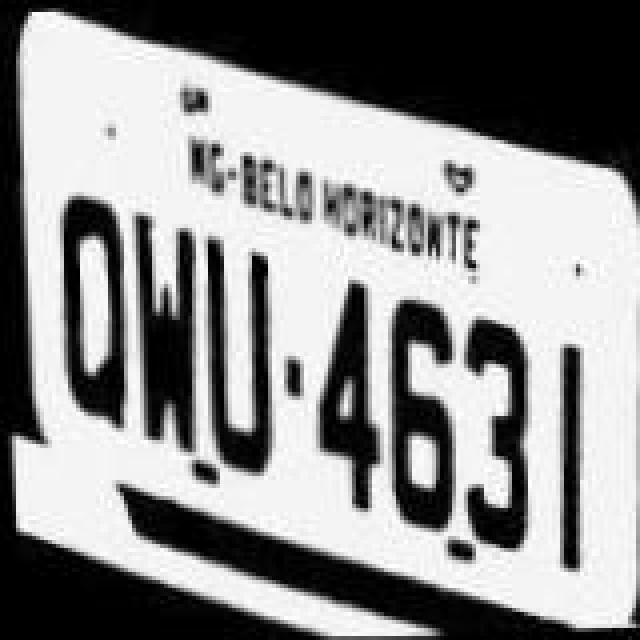1: (530, 344, 598, 568)
3: (450, 314, 538, 550)
4: (298, 278, 386, 518)
6: (374, 298, 458, 538)
Q: (50, 194, 134, 430)
U: (192, 234, 284, 474)
W: (122, 216, 206, 452)
